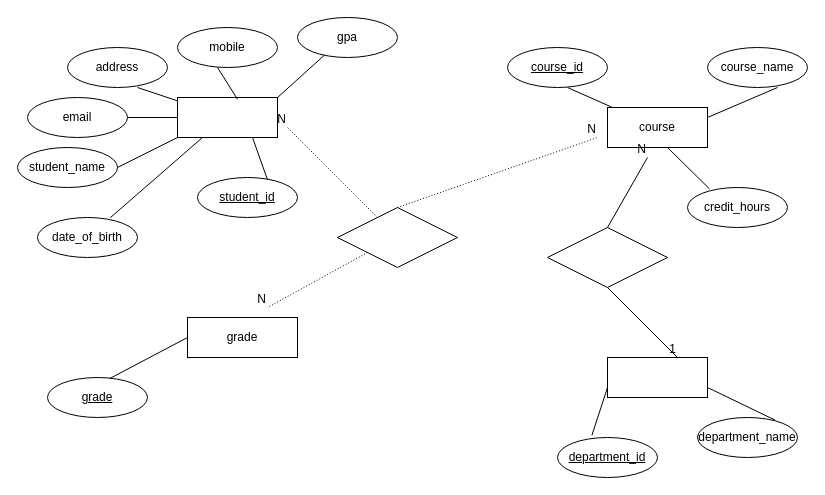
The diagram is 825 pixels wide and 495 high, and some of its shapes have lost their labels. Here are the shapes that lost their labels. From the top down, the centre of each, then its label:
[227,117]: student
[397,237]: enroll
[607,257]: contain
[657,377]: department
